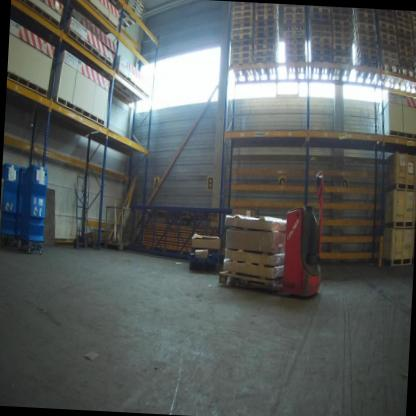pallet: (217, 270, 283, 293), (230, 31, 254, 42), (353, 33, 377, 44), (230, 50, 253, 61), (230, 43, 253, 54), (231, 25, 254, 36), (231, 20, 254, 31), (253, 54, 276, 65), (255, 17, 278, 28), (356, 51, 379, 62), (232, 3, 254, 14), (230, 56, 252, 67), (230, 38, 254, 48), (253, 48, 277, 58), (253, 41, 277, 51), (254, 12, 278, 22), (232, 9, 255, 19), (255, 23, 278, 33), (309, 17, 332, 27), (354, 28, 377, 38), (352, 10, 375, 20), (254, 2, 279, 11), (232, 15, 254, 25), (283, 28, 305, 38), (331, 30, 353, 40), (356, 46, 378, 56), (254, 29, 278, 38), (254, 6, 278, 15), (352, 17, 376, 26), (284, 22, 305, 32), (380, 62, 399, 73), (380, 55, 399, 66), (378, 31, 397, 42), (377, 20, 396, 31), (254, 36, 277, 45), (309, 30, 332, 39), (333, 55, 353, 65), (332, 36, 352, 46), (283, 11, 305, 20), (283, 5, 305, 14), (310, 47, 332, 56), (310, 41, 332, 50), (310, 36, 332, 45), (309, 24, 331, 33), (353, 22, 375, 31), (379, 37, 397, 48), (285, 53, 306, 62), (284, 47, 305, 56), (397, 37, 414, 48), (395, 20, 412, 31), (283, 17, 306, 25), (310, 54, 332, 62), (309, 12, 331, 20), (357, 59, 379, 67), (354, 41, 376, 49), (379, 50, 398, 59), (398, 67, 415, 77), (398, 55, 415, 65), (397, 43, 414, 53), (396, 26, 413, 36), (284, 42, 305, 50), (284, 36, 305, 44), (331, 24, 352, 32), (331, 19, 352, 27), (379, 44, 397, 53), (377, 15, 395, 24), (377, 10, 395, 19), (310, 6, 330, 14), (332, 49, 352, 57), (331, 13, 351, 21), (330, 8, 350, 16), (399, 61, 415, 71), (398, 49, 414, 59), (397, 32, 413, 42), (395, 15, 411, 25), (394, 10, 410, 20), (352, 7, 374, 14), (333, 43, 352, 51), (378, 27, 396, 35), (410, 12, 416, 21), (411, 16, 416, 26), (412, 26, 416, 36), (412, 22, 416, 31), (413, 32, 416, 42), (410, 11, 416, 16)
pallet_truck: (271, 166, 327, 301)
stillage: (103, 205, 136, 251)
